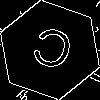C: (25, 25, 77, 81)
